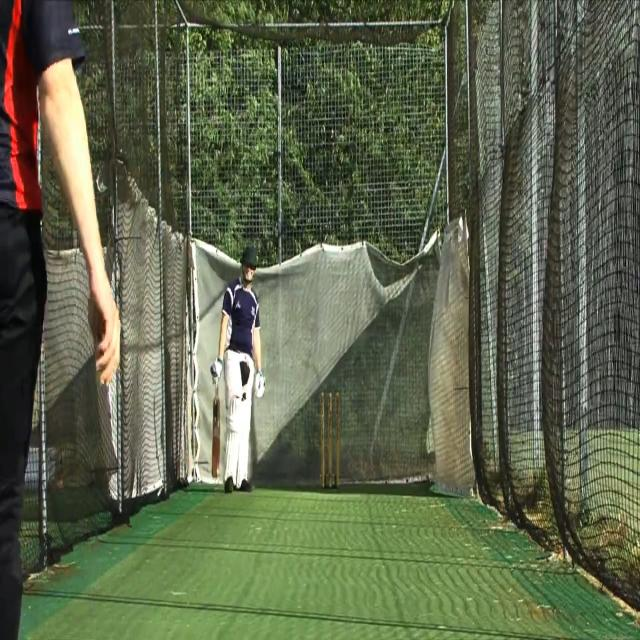batsman: (210, 244, 266, 496)
